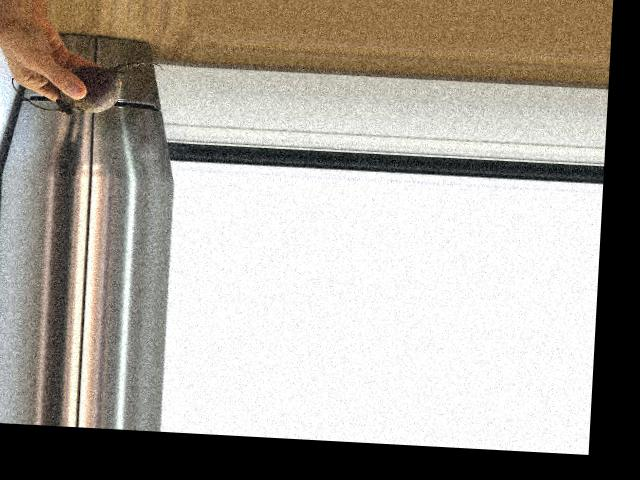beet: (10, 54, 166, 119)
